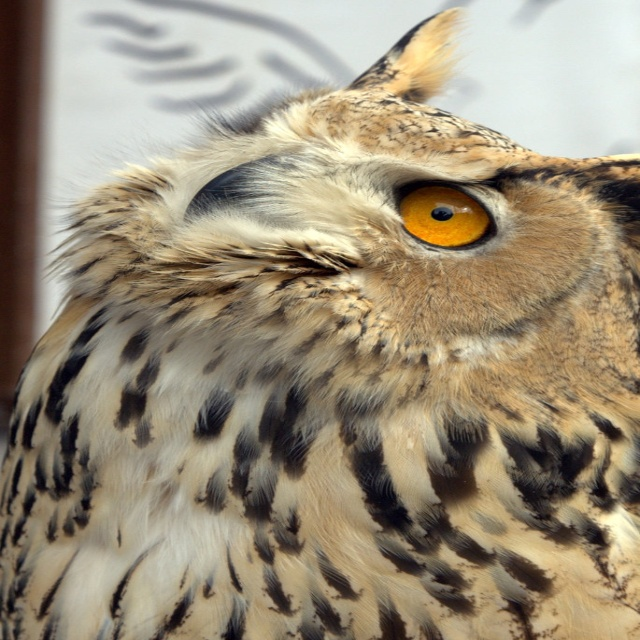Owl: (0, 3, 639, 640)
